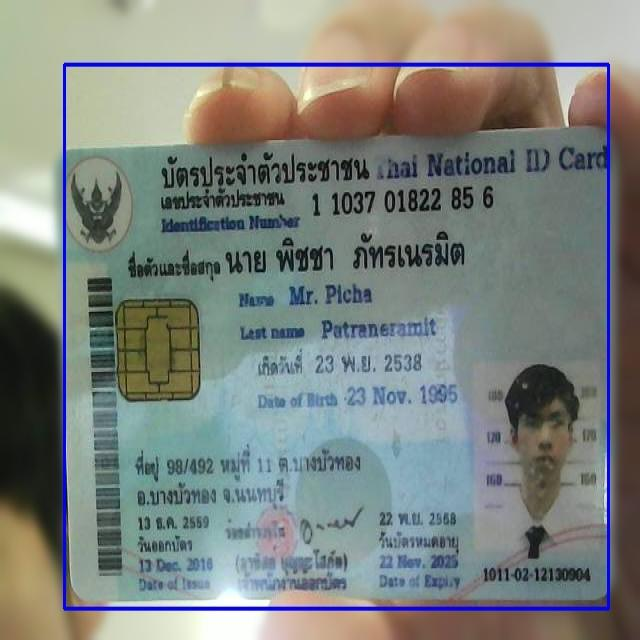Address_th: (132, 437, 374, 515)
Date_of_Birth: (344, 377, 462, 415)
Date_of_Expiry: (374, 552, 462, 575)
Date_of_Issue: (135, 555, 219, 578)
First_Name: (285, 279, 376, 309)
ID_Number: (310, 184, 498, 218)
Image: (476, 365, 598, 565)
Last_Name: (319, 313, 439, 343)
Thai_Name: (223, 230, 479, 275)
